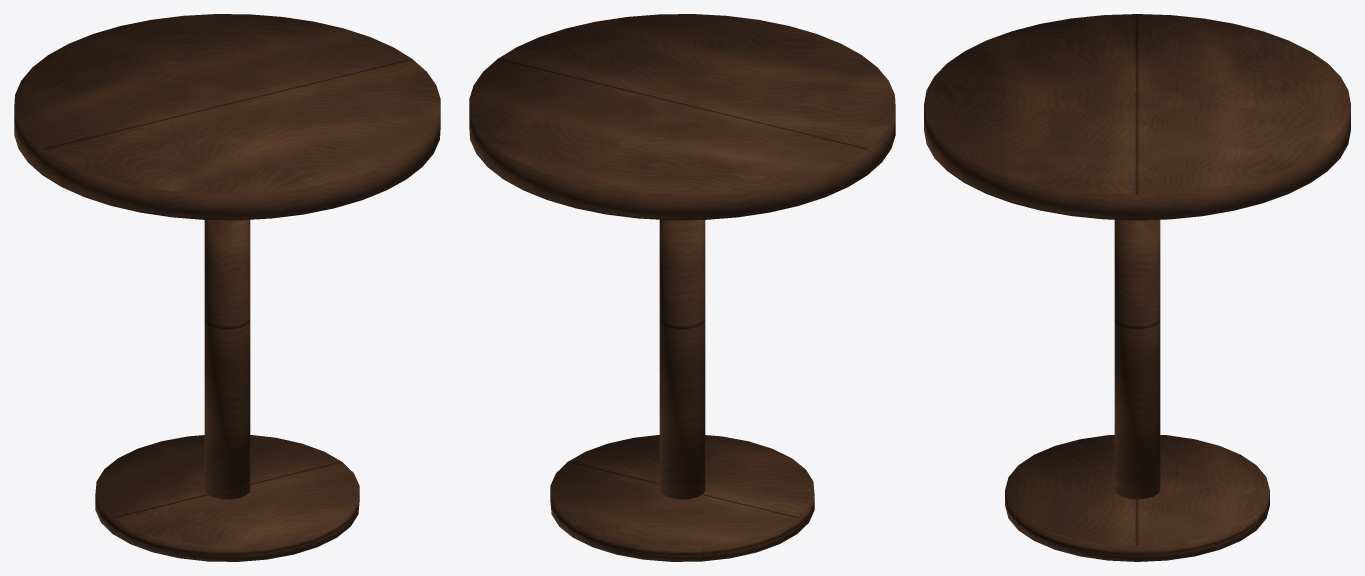
File: living_side_table.glb
The picture shows the model from 3 angles, left to right: view 1: azimuth 30°, elevation 25°; view 2: azimuth 150°, elevation 25°; view 3: azimuth 270°, elevation 25°; orthographic projection.
Visible parts, largest first — view 1: living_side_table; view 2: living_side_table; view 3: living_side_table.
Part boxes in pixels (box(x1,y1,x2,y2)): living_side_table: box(14, 14, 440, 561); living_side_table: box(469, 14, 895, 561); living_side_table: box(924, 14, 1350, 561).
Size of the model in its own units: 0.52 by 0.54 by 0.52.
Materials: 1 (1 with a texture image).
